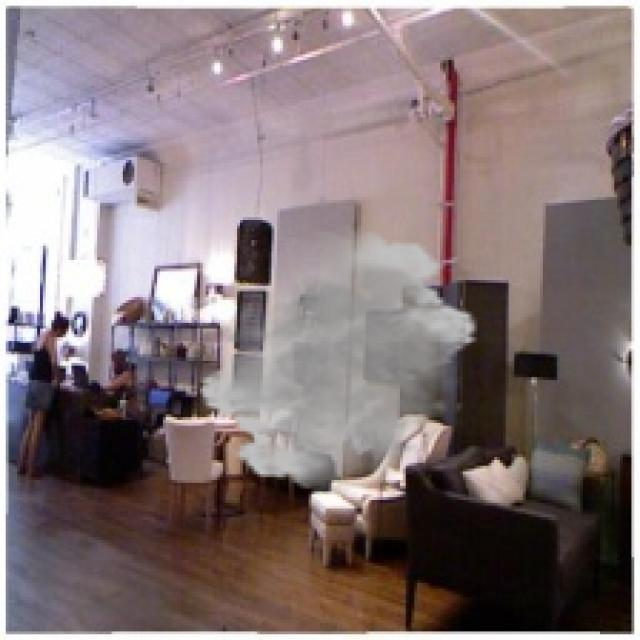Smoke: (197, 226, 480, 494)
